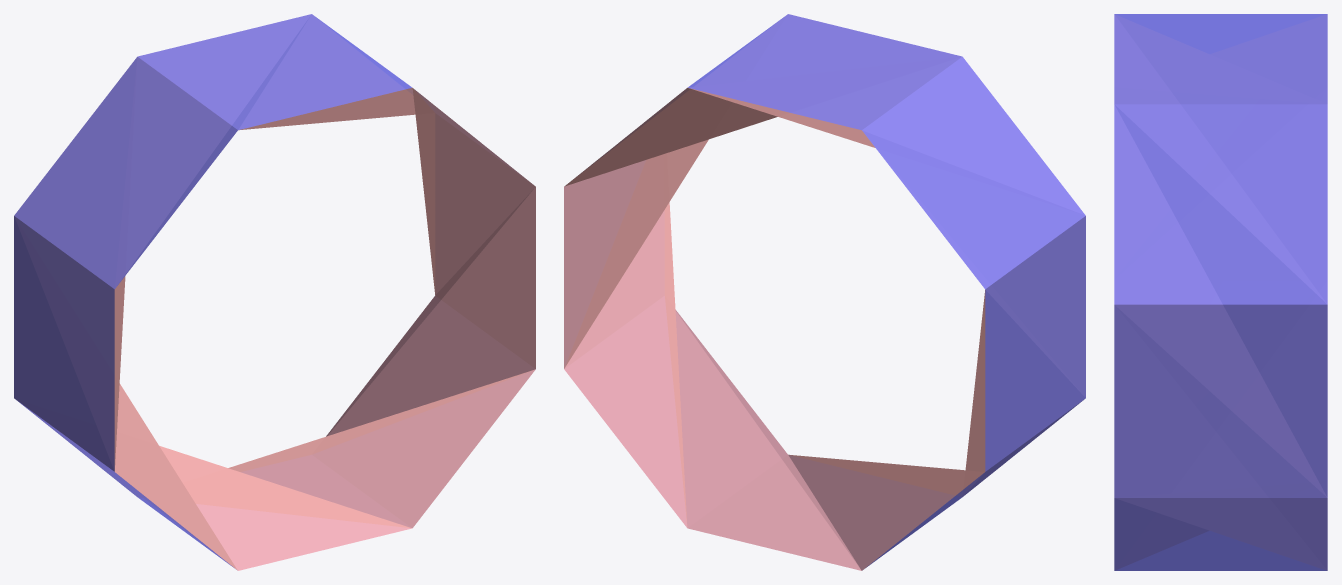
The model's file is OctagonalIrisToroid2.obj.
3 renders of one model, left to right at view 1: azimuth 30°, elevation 25°; view 2: azimuth 150°, elevation 25°; view 3: azimuth 270°, elevation 25°, orthographic. The views are drawn at different scales.
Size of the model in its own units: 2.41 by 2.41 by 1.
